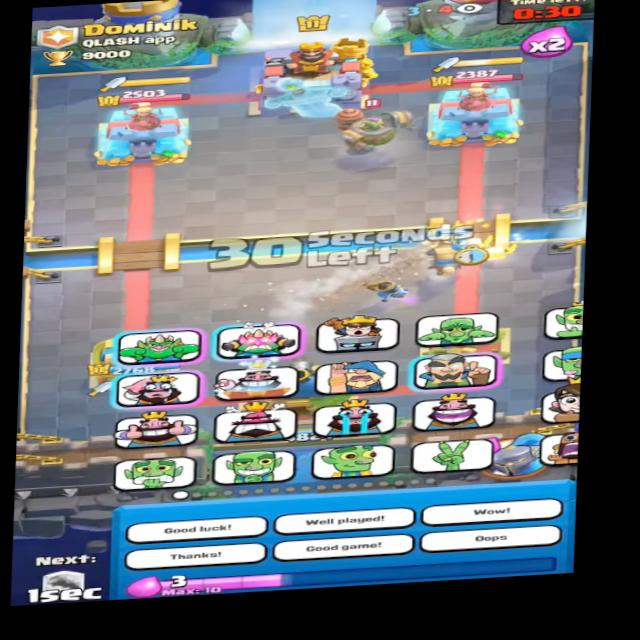goblin-machine: (330, 94, 422, 156)
